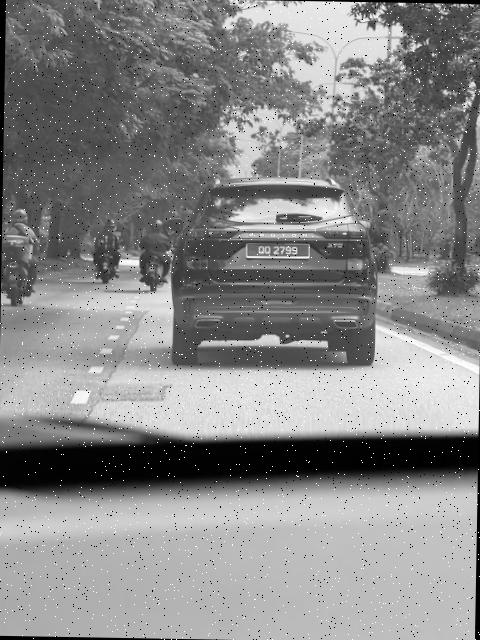License_Plate: (245, 242, 311, 261)
car: (164, 174, 380, 369)
